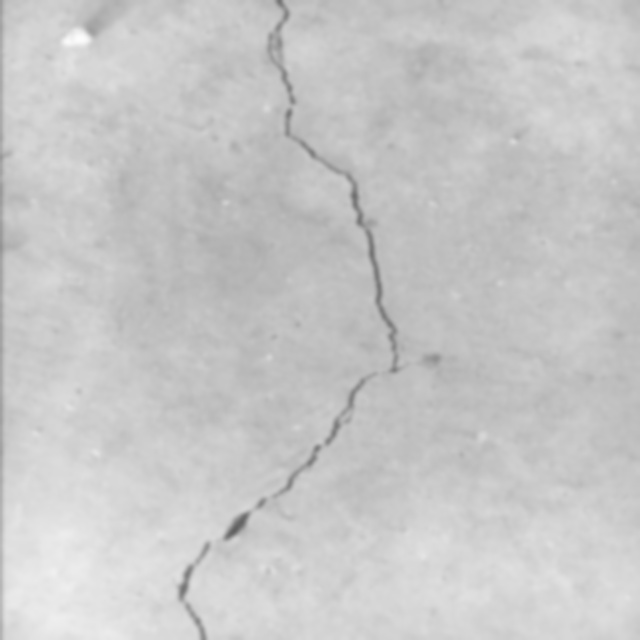SurfaceCrack: (134, 0, 430, 639)
